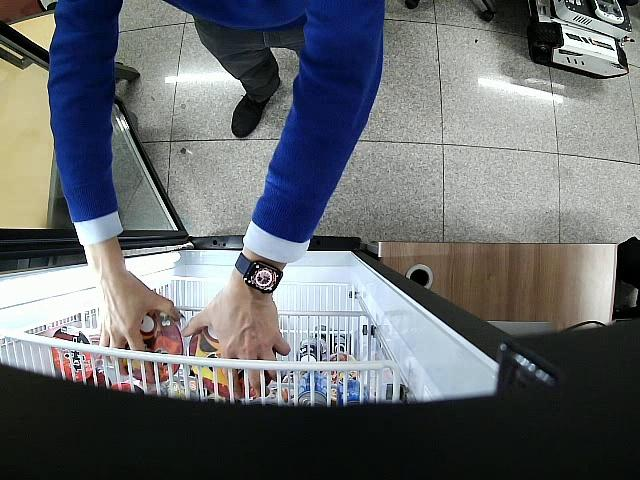00_hand: (182, 285, 290, 399), (96, 266, 180, 378)
05_nuguri_L: (188, 325, 272, 399), (123, 309, 190, 383)
